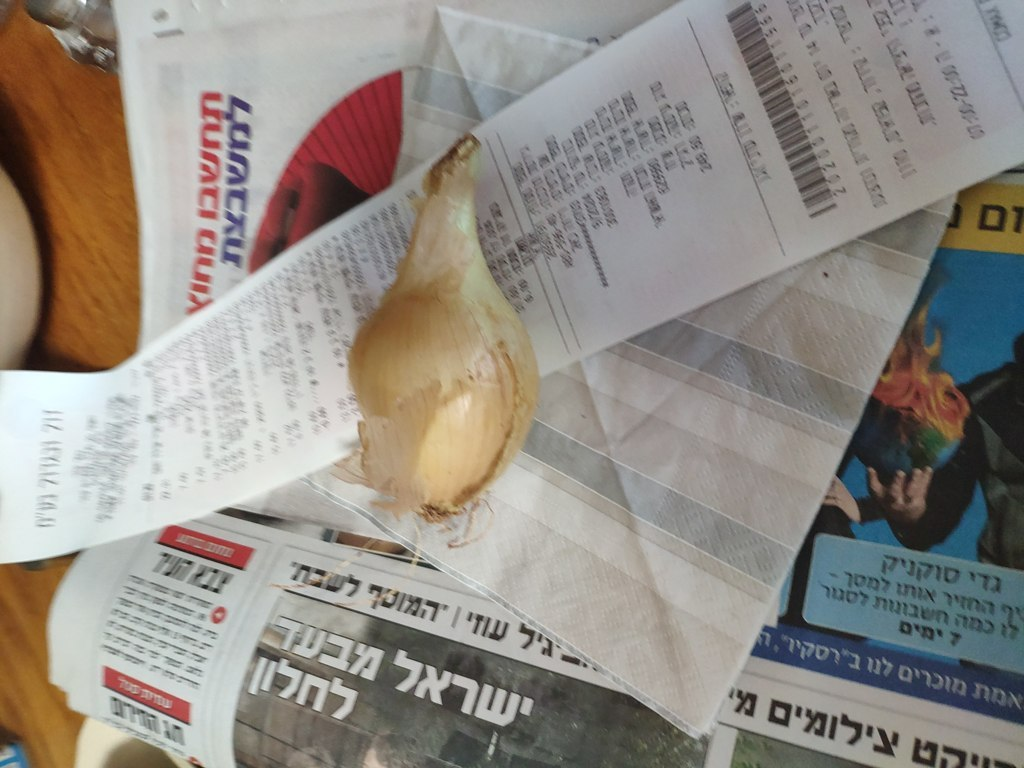Onion: (365, 178, 529, 510)
